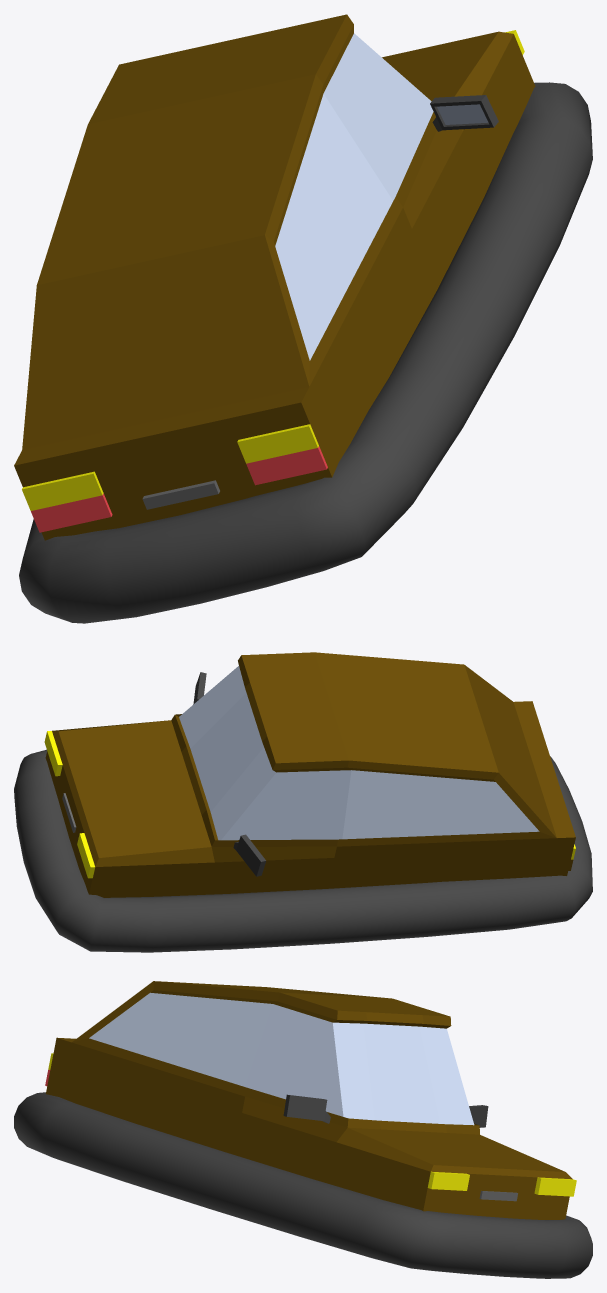
File: car2.fbx
The picture shows the model from 3 angles, top to bottom: view 1: azimuth 30°, elevation 25°; view 2: azimuth 150°, elevation 25°; view 3: azimuth 270°, elevation 25°; orthographic projection. The views are drawn at different scales.
Parts seen in each view (by area): view 1: car.001, airCussion.001, sideMirrorRight.001; view 2: car.001, airCussion.001, sideMirrorLeft.001; view 3: car.001, airCussion.001, sideMirrorRight.001.
Part boxes in pixels (box(x1,y1,x2,y2)): car.001: box(14, 14, 535, 540); airCussion.001: box(19, 82, 592, 623); sideMirrorRight.001: box(430, 95, 498, 131); car.001: box(44, 652, 575, 897); airCussion.001: box(14, 749, 592, 952); sideMirrorLeft.001: box(233, 834, 265, 876); car.001: box(45, 981, 576, 1219); airCussion.001: box(14, 1092, 592, 1278); sideMirrorRight.001: box(283, 1094, 330, 1123).
Size of the model in its own units: 87.24 by 47.13 by 89.9.
